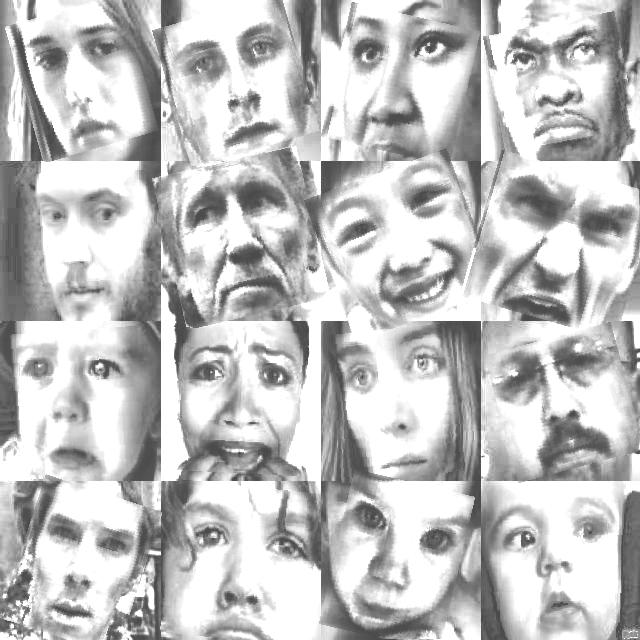angry: (469, 159, 640, 330), (328, 8, 474, 160), (489, 17, 635, 163)
fear: (160, 153, 324, 323), (164, 482, 317, 640), (9, 481, 152, 640), (492, 330, 637, 476), (330, 325, 462, 480), (21, 171, 147, 307)
happy: (314, 158, 488, 330)
neutral: (160, 0, 312, 159), (327, 475, 467, 640), (486, 485, 631, 640)
sad: (13, 0, 150, 156), (164, 328, 308, 475), (13, 328, 145, 478)
